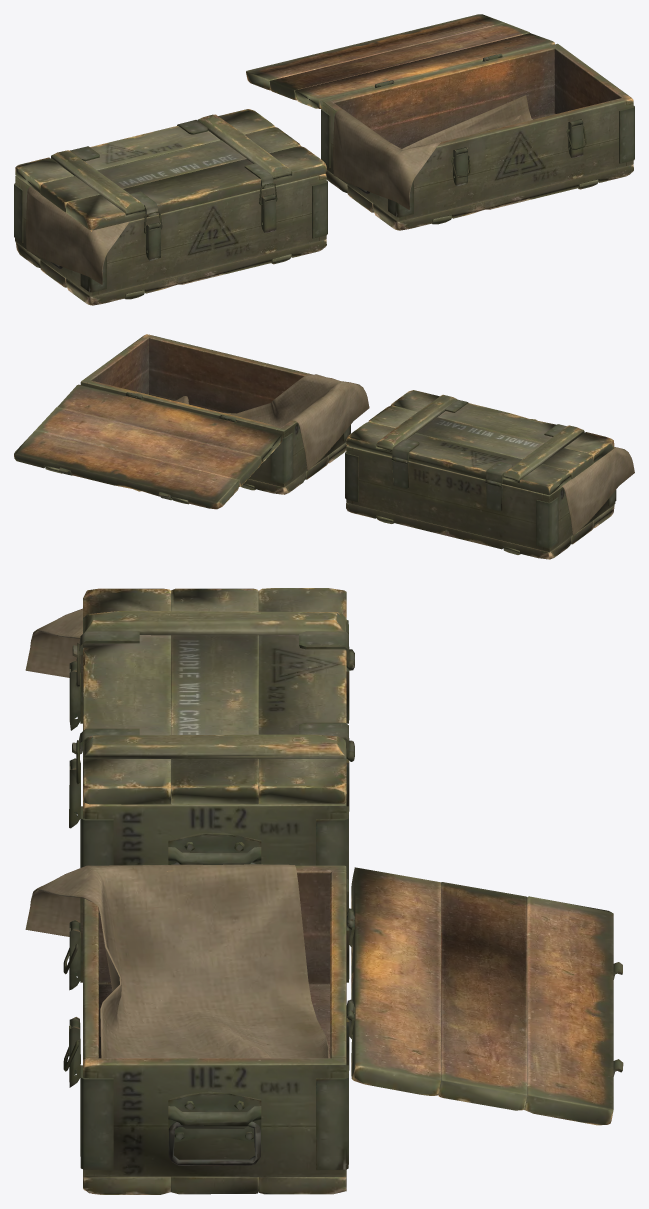
The model's file is military_crate.glb.
The picture shows the model from 3 angles, top to bottom: view 1: azimuth 30°, elevation 25°; view 2: azimuth 150°, elevation 25°; view 3: azimuth 270°, elevation 25°; orthographic projection. The views are drawn at different scales.
Visible parts, largest first — view 1: old_military_crate_lid_a; view 2: old_military_crate_lid_a; view 3: old_military_crate_lid_a.
Part boxes in pixels (x1,y1,x2,y2): old_military_crate_lid_a: [14, 14, 634, 305]; old_military_crate_lid_a: [14, 334, 634, 559]; old_military_crate_lid_a: [25, 588, 623, 1194].
Bounding box in the file's own units: 1.82 × 0.3009 × 0.9752.
Materials: 1 (1 with a texture image).
